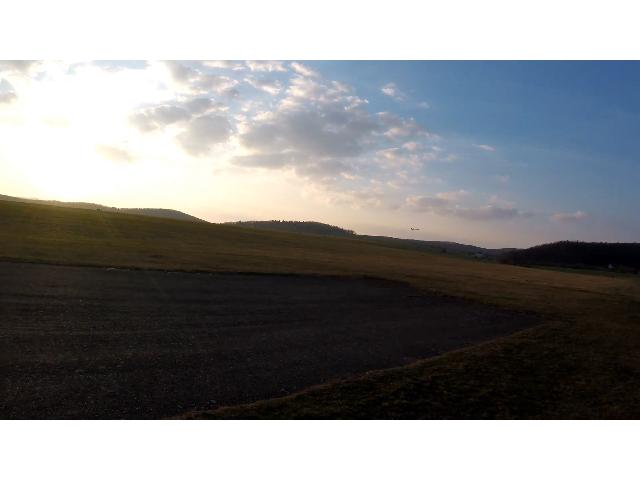Anti-Drone: (404, 221, 422, 235)
